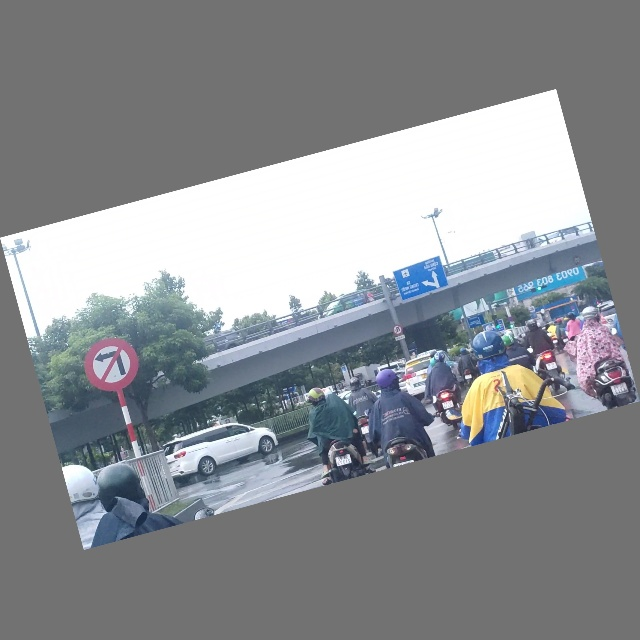P.123b: (78, 333, 144, 398)
P.124b1: (392, 324, 404, 337)
